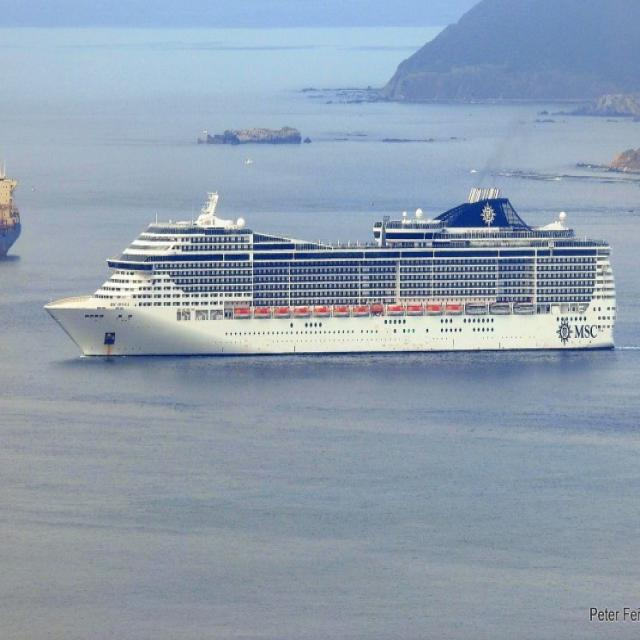cruises: (43, 186, 629, 369)
